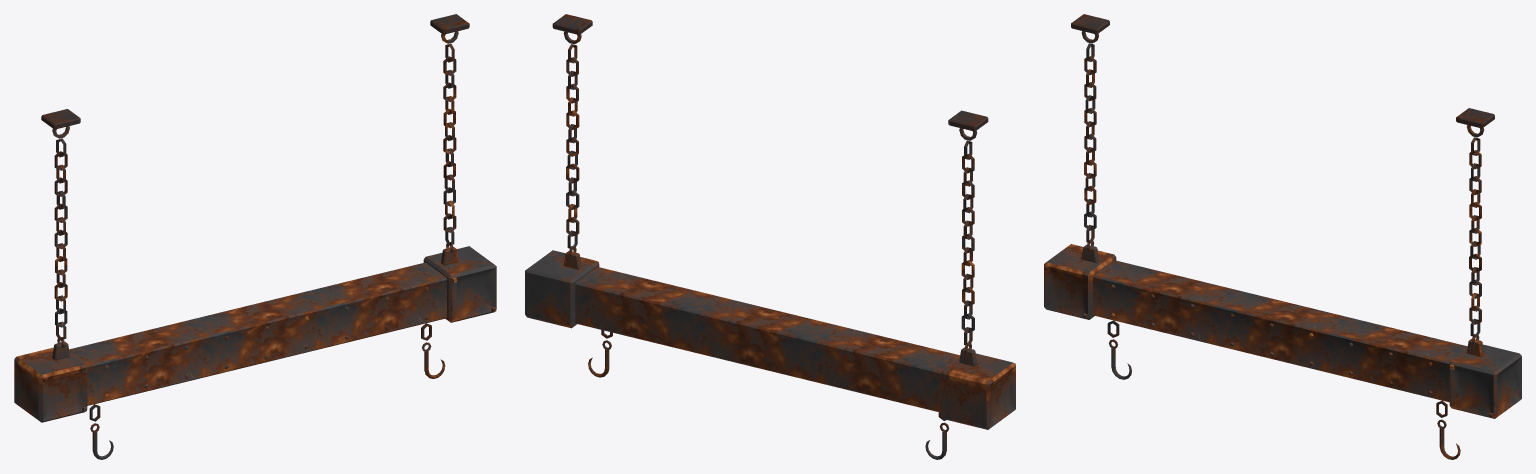
The model's file is Hanging_Beam.glb.
3 views of the same model, side by side, from view 1: azimuth 30°, elevation 25°; view 2: azimuth 150°, elevation 25°; view 3: azimuth 330°, elevation 25° (orthographic). The views are drawn at different scales.
Parts seen in each view (by area): view 1: Hanging_Beam; view 2: Hanging_Beam; view 3: Hanging_Beam.
Part boxes in pixels (bbox=[...]): Hanging_Beam: bbox=[14, 14, 496, 459]; Hanging_Beam: bbox=[525, 14, 1015, 459]; Hanging_Beam: bbox=[1044, 14, 1521, 459].
Size of the model in its own units: 4 by 2.91 by 0.438.
Materials: 2 (2 with a texture image).
